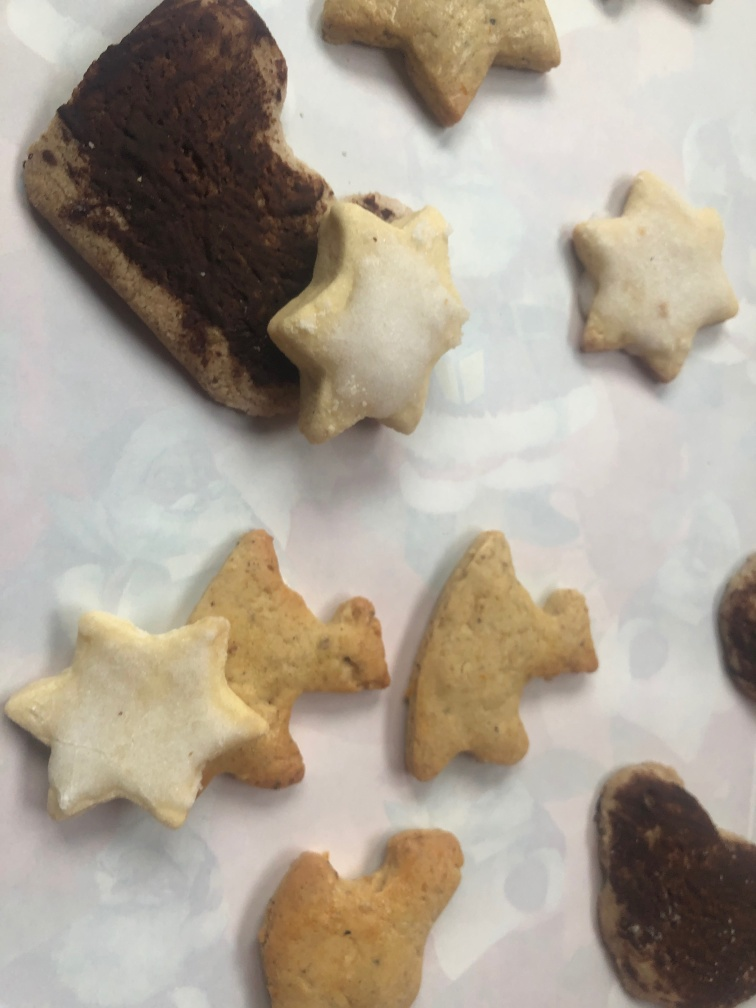lamb: (183, 522, 393, 799), (398, 519, 599, 794), (248, 820, 465, 1008)
star: (2, 606, 266, 838), (265, 178, 471, 450), (563, 169, 744, 393), (309, 1, 566, 131)
weird #1: (14, 1, 315, 439), (580, 752, 755, 1005)
